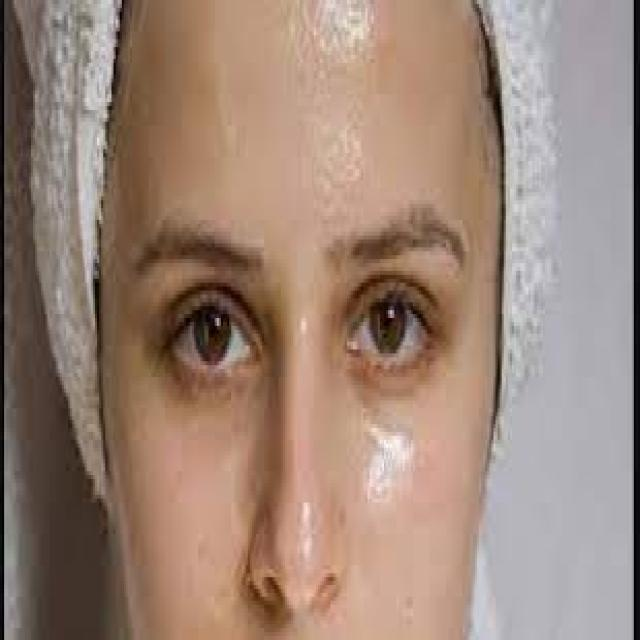oily: (364, 402, 420, 508), (302, 2, 409, 56), (277, 498, 331, 601), (287, 310, 330, 376)
